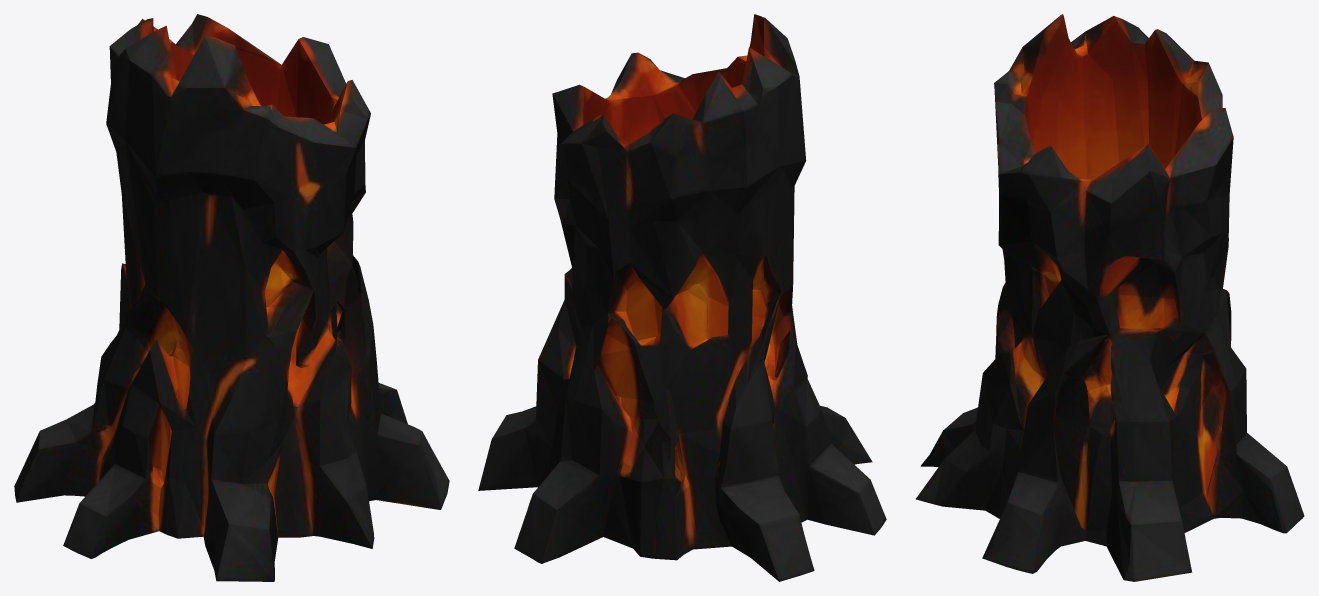
File: braises_tronc_calcine.glb
3 renders of one model, left to right at view 1: azimuth 30°, elevation 25°; view 2: azimuth 150°, elevation 25°; view 3: azimuth 270°, elevation 25°, orthographic. The views are drawn at different scales.
Parts seen in each view (by area): view 1: geometry_0; view 2: geometry_0; view 3: geometry_0.
Boxes of the visible parts, x1=… form: geometry_0: x1=14, y1=14, x2=449, y2=581; geometry_0: x1=478, y1=14, x2=886, y2=581; geometry_0: x1=916, y1=14, x2=1304, y2=581.
Size of the model in its own units: 0.795 by 1 by 0.772.
1 material, 1 textured.
